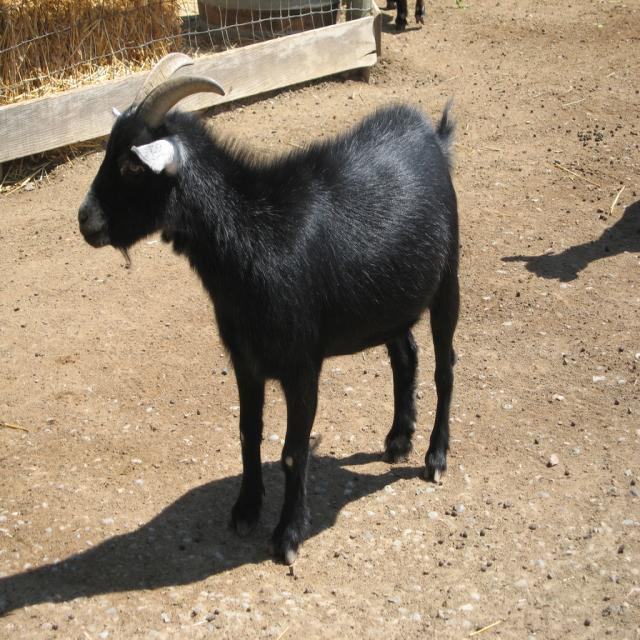Goat: (82, 52, 454, 566)
